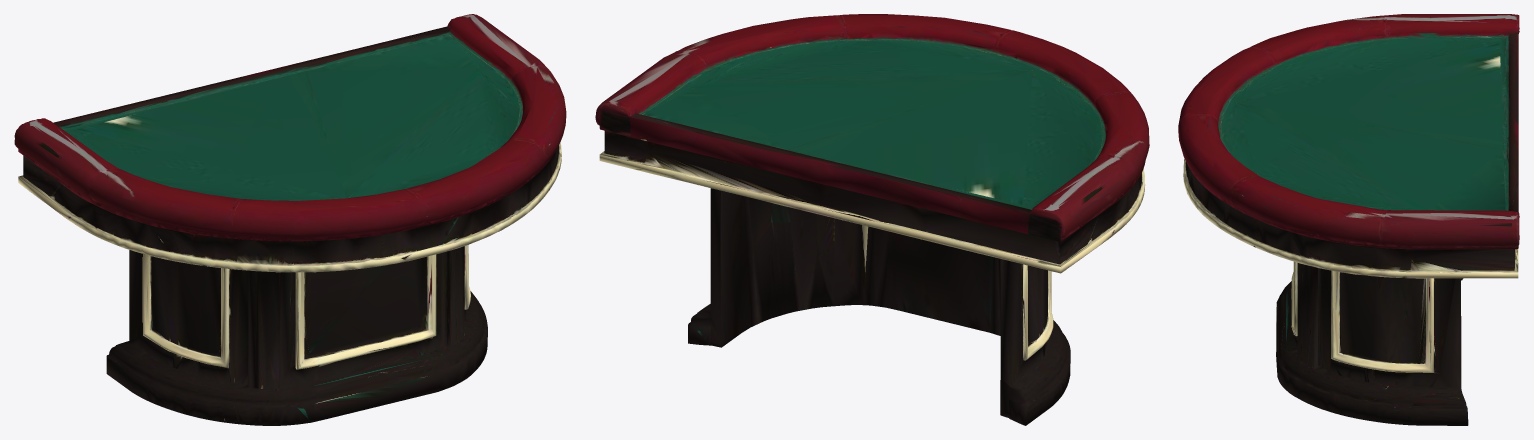
Rendered from bjTable.glb.
3 renders of one model, left to right at view 1: azimuth 30°, elevation 25°; view 2: azimuth 150°, elevation 25°; view 3: azimuth 270°, elevation 25°, orthographic. The views are drawn at different scales.
Visible parts, largest first — view 1: Mesh_0; view 2: Mesh_0; view 3: Mesh_0.
Part boxes in pixels (box(x1,y1,x2,y2)): Mesh_0: box(14, 14, 566, 425); Mesh_0: box(595, 14, 1149, 425); Mesh_0: box(1178, 14, 1519, 425).
Bounding box in the file's own units: 1.88 × 0.95 × 1.26.
Materials: 1 (1 with a texture image).
